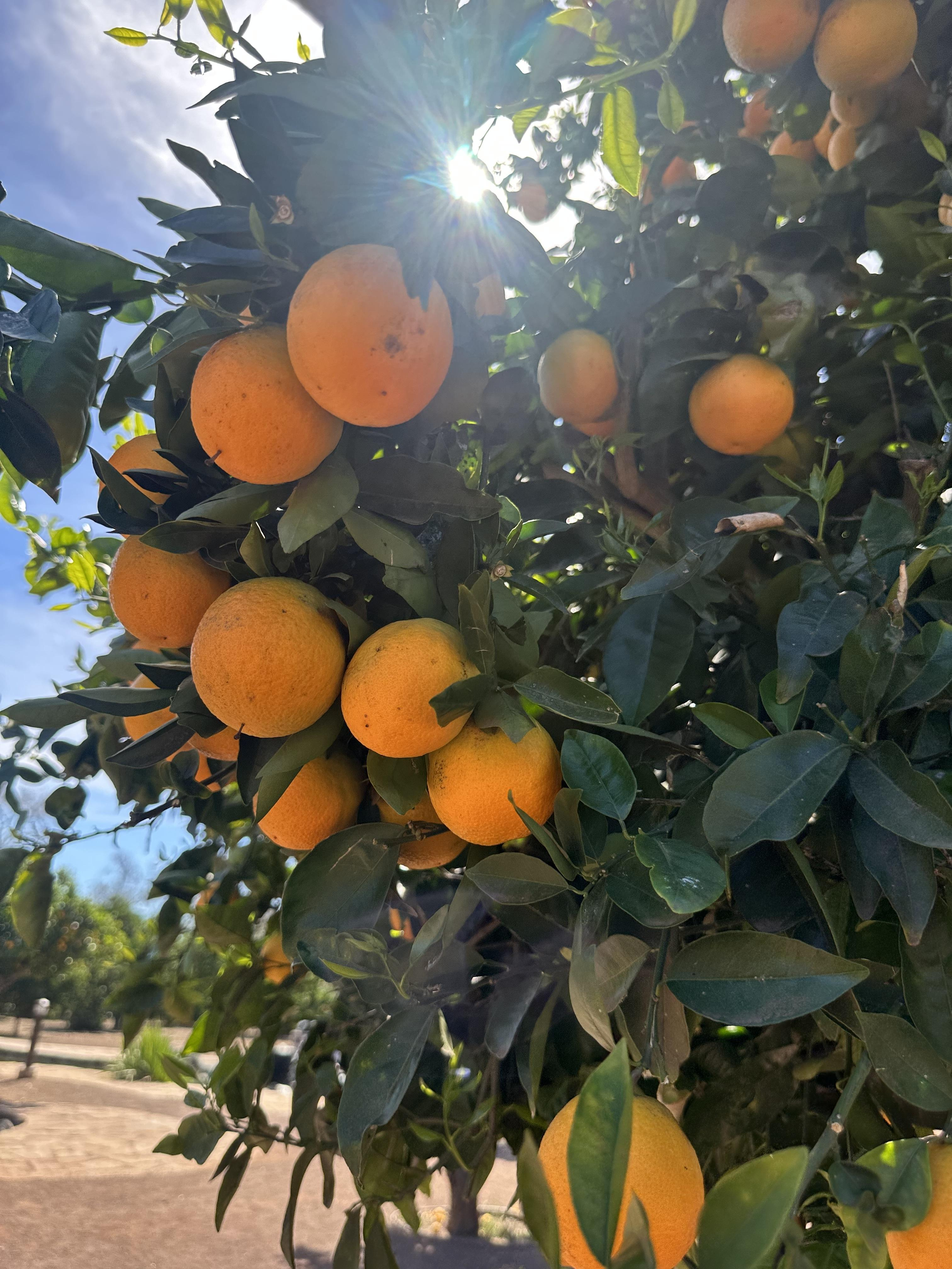orange: (535, 1086, 707, 1269), (287, 244, 454, 428), (191, 577, 345, 737), (190, 325, 343, 484), (342, 618, 482, 760), (429, 711, 561, 847), (108, 534, 230, 646), (253, 739, 365, 850), (688, 354, 794, 455), (814, 0, 918, 93), (99, 435, 190, 541), (882, 1139, 952, 1269), (538, 329, 618, 424), (376, 789, 468, 870), (723, 0, 819, 72), (124, 672, 178, 742), (639, 151, 699, 207), (166, 742, 223, 791), (260, 931, 308, 984), (130, 641, 179, 685), (830, 88, 883, 128), (188, 724, 240, 761), (743, 86, 779, 135), (768, 130, 817, 164), (472, 270, 505, 320), (570, 404, 615, 439), (826, 124, 857, 171), (814, 109, 840, 159), (390, 906, 425, 942), (520, 183, 552, 221), (938, 191, 952, 227)
